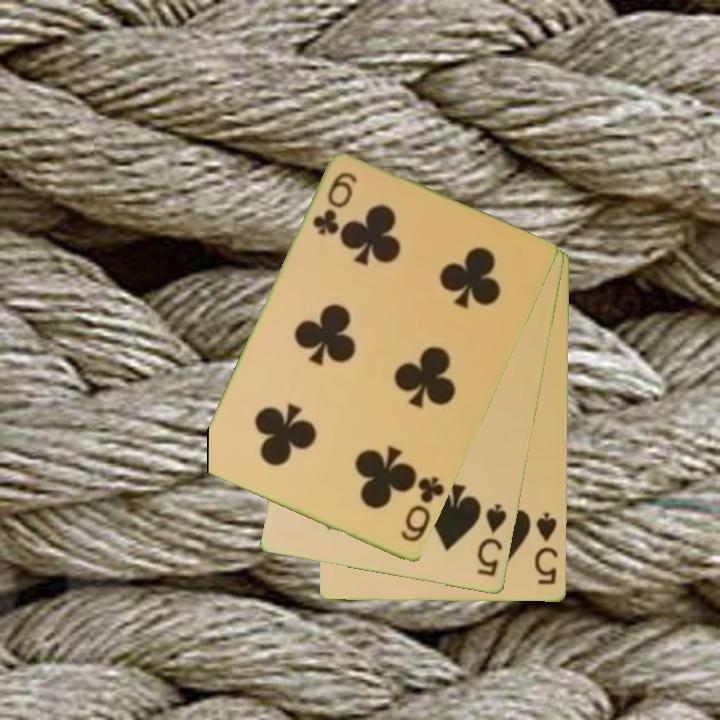5s: (474, 500, 510, 580), (531, 509, 561, 588)
6c: (397, 473, 448, 546), (309, 169, 361, 239)
